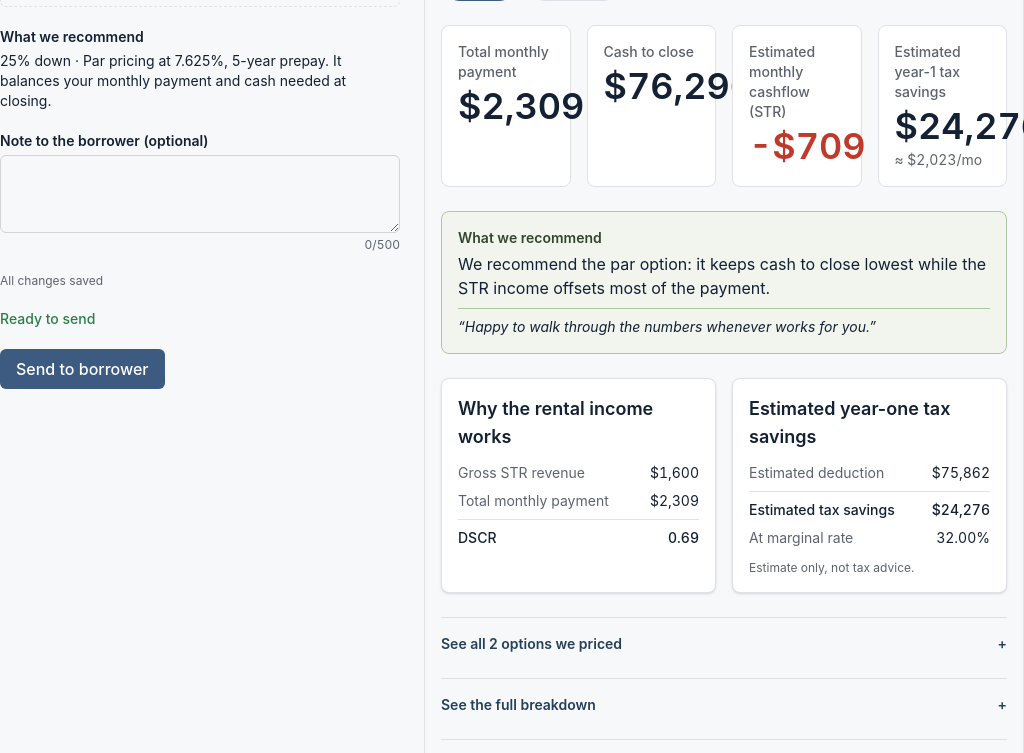
Send flow (CQ-020) › AC4 in the UI: a 409 PACKAGE_NOT_READY shows the blockers and polls nothing
(page scrolled)
Click the button "Send to borrower" at [82, 369], box [0,349,164,389]
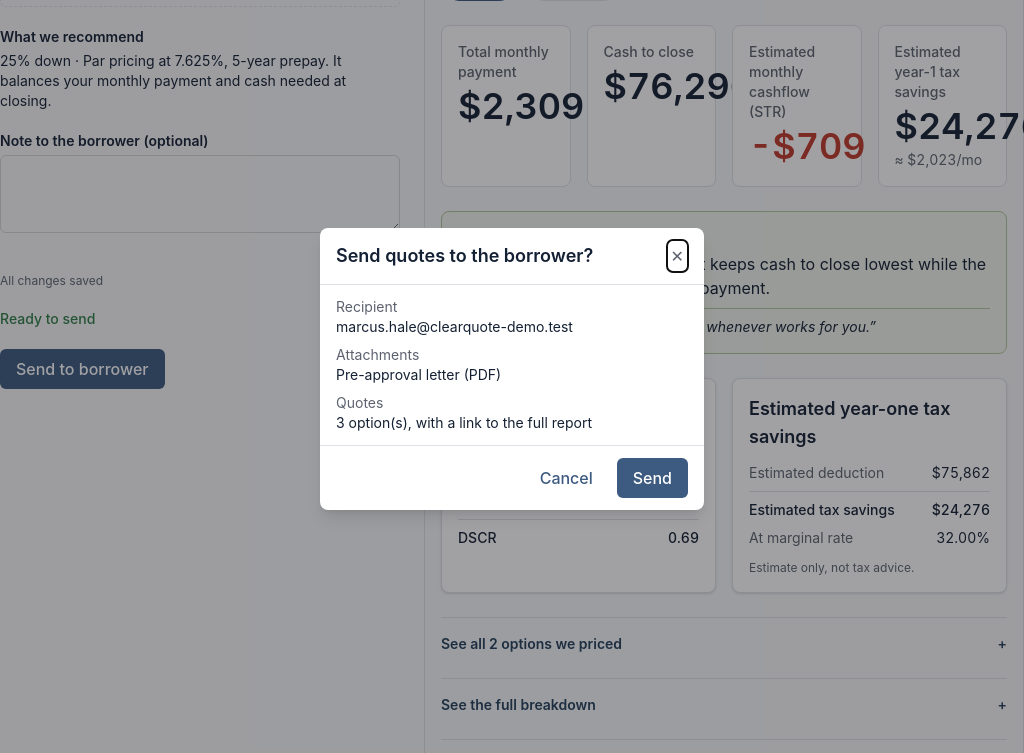
Click the button "Send" at [652, 478], box [617,458,688,498]
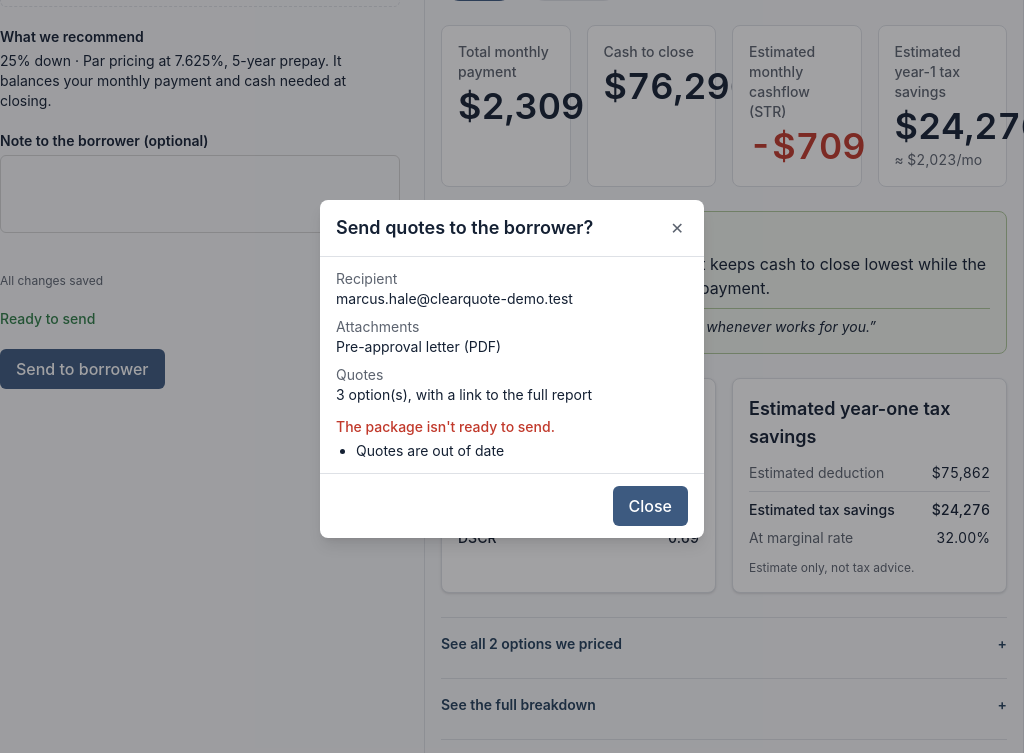
Result: the message with test id "send-blocked" shows "The package isn't ready to send." at [336,418,555,435]
Result: the message with test id "send-blocked" shows "Quotes are out of date" at [356,442,504,459]
